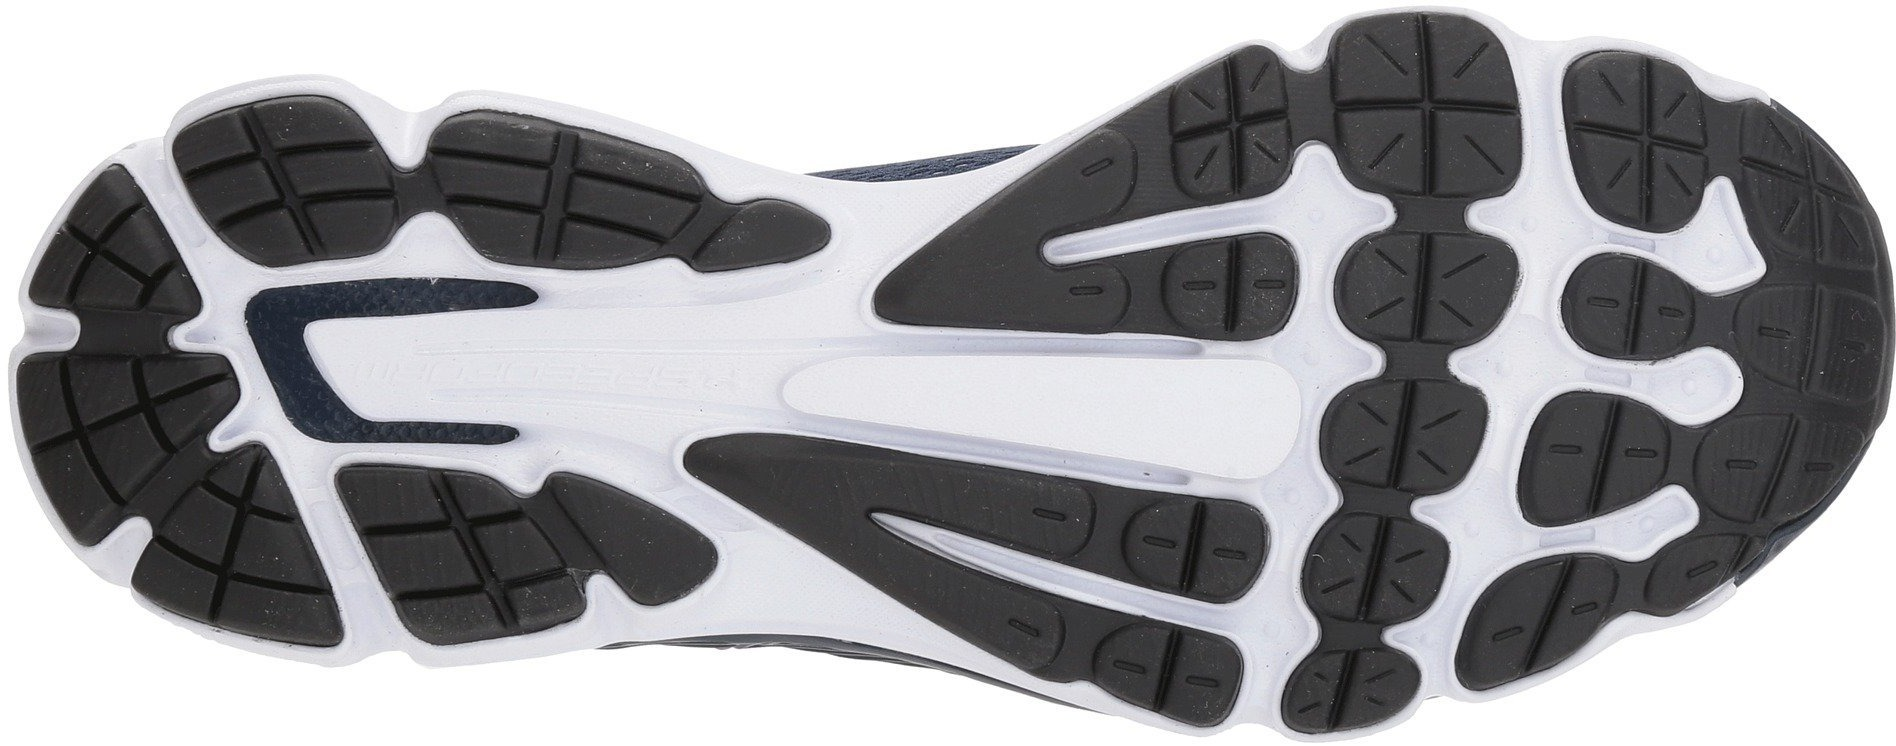other: (1138, 365, 1258, 465)
quad: (1336, 21, 1703, 362), (1290, 354, 1674, 643), (428, 96, 681, 320), (1109, 472, 1282, 632), (1167, 50, 1312, 212)
text: (567, 323, 696, 433), (446, 324, 566, 422), (359, 345, 432, 407)
triangle: (126, 417, 364, 650)
